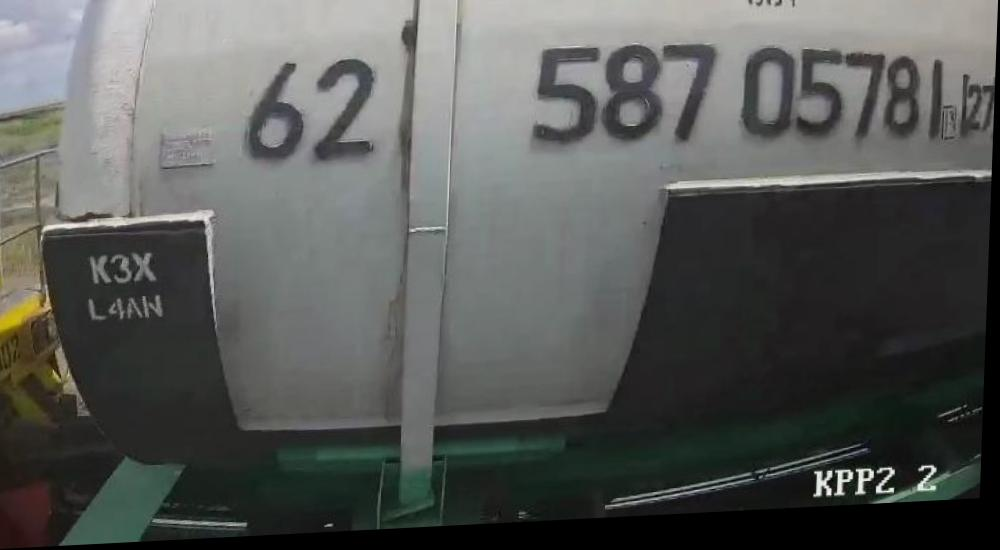Wagon-number: (529, 32, 949, 173)
